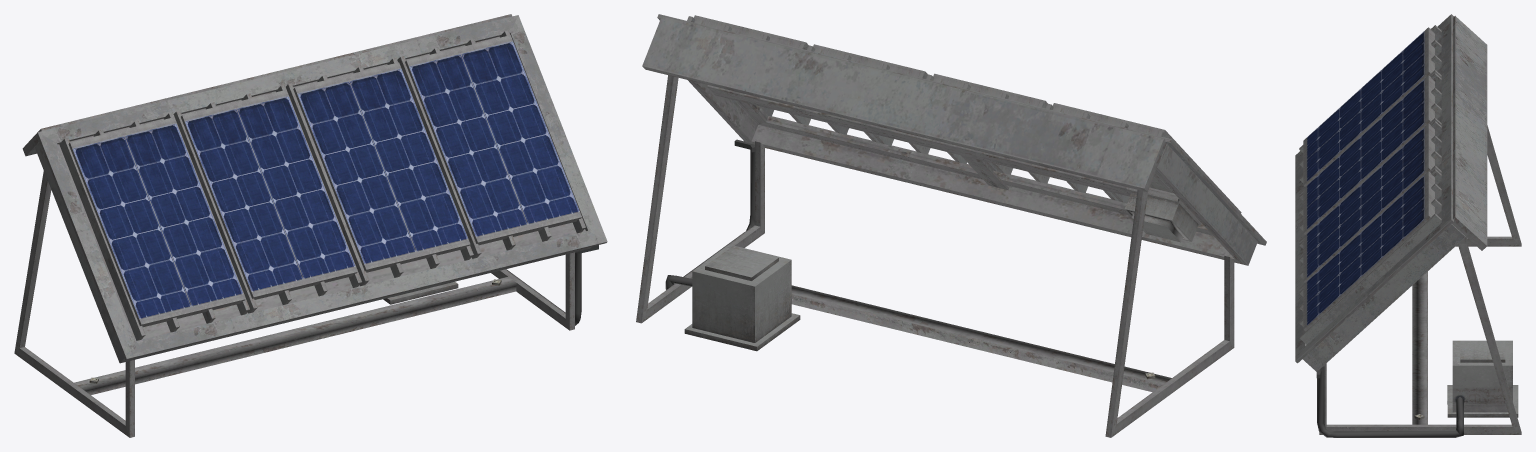
Rendered from solarpanel.glb.
3 views of the same model, side by side, from view 1: azimuth 30°, elevation 25°; view 2: azimuth 150°, elevation 25°; view 3: azimuth 270°, elevation 25° (orthographic). The views are drawn at different scales.
Visible parts, largest first — view 1: Solar_Panel_03_0; view 2: Solar_Panel_03_0; view 3: Solar_Panel_03_0.
Part boxes in pixels (box(x1,y1,x2,y2)): Solar_Panel_03_0: box(14, 14, 607, 437); Solar_Panel_03_0: box(636, 14, 1266, 437); Solar_Panel_03_0: box(1295, 14, 1521, 437).
Size of the model in its own units: 3.35 by 1.7 by 1.55.
Materials: 2 (2 with a texture image).
